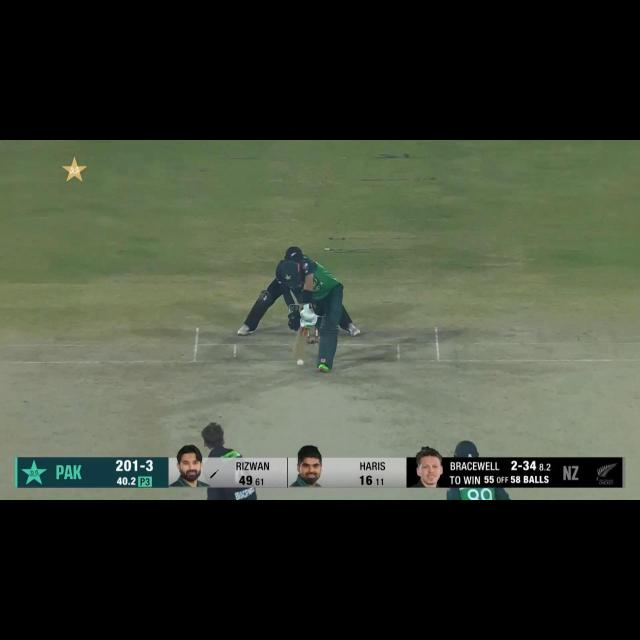bat: (294, 322, 310, 363)
toe: (292, 353, 306, 364)
